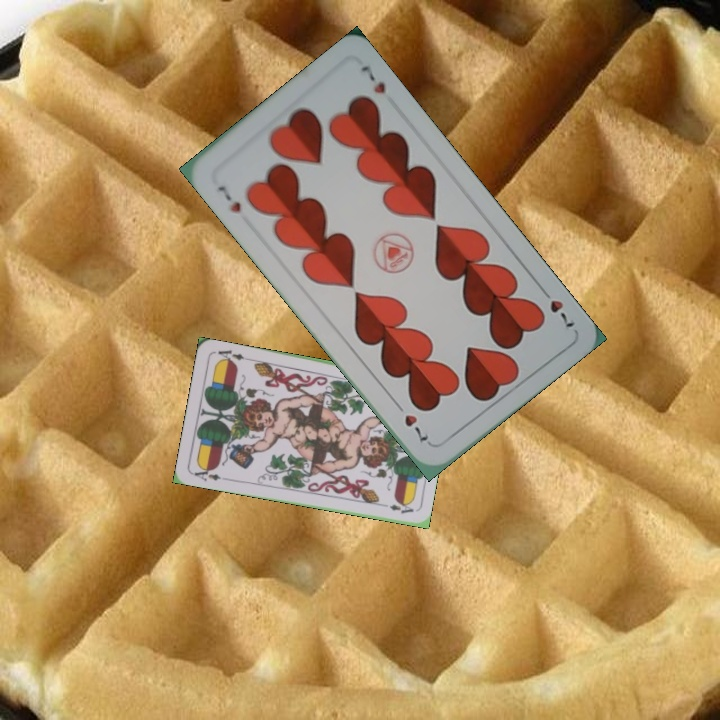EA: (189, 462, 223, 484)
H7: (535, 282, 577, 330), (213, 181, 244, 216)
